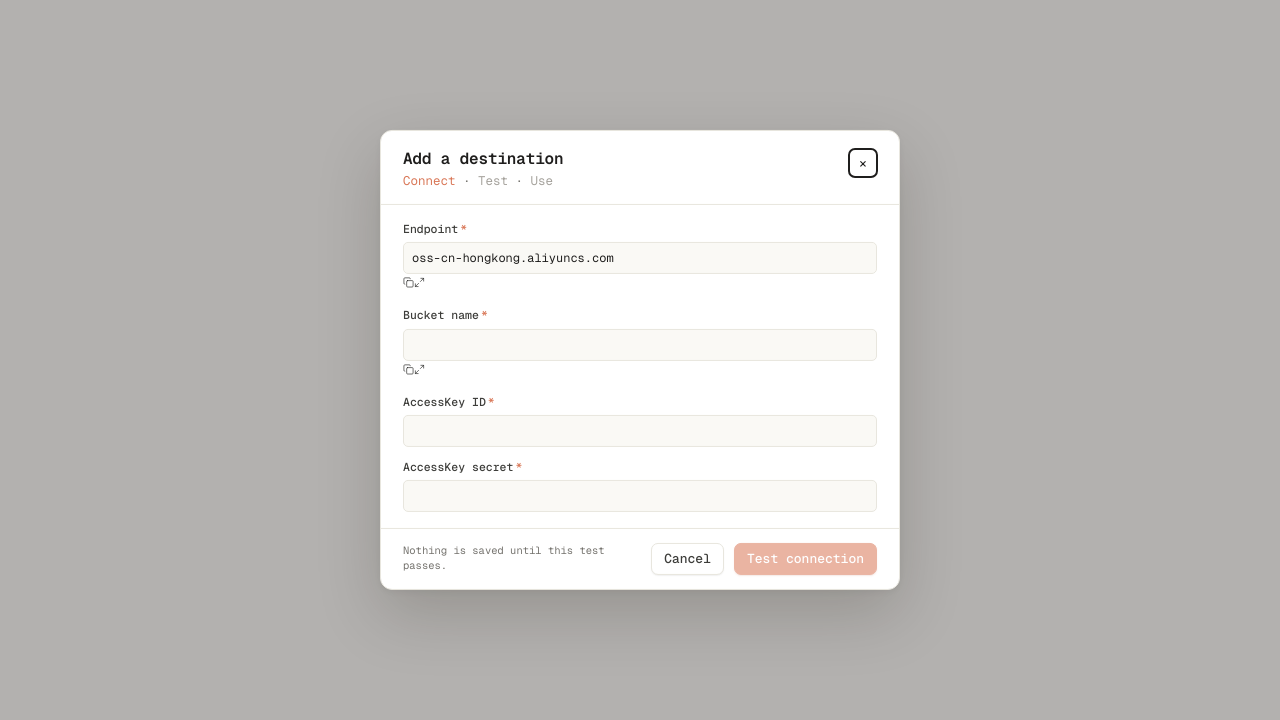
it: AddDestinationDialog › tests the real destination without recording anything
Step 1. Clear the field labelled "oss-cn-hongkong.aliyuncs.com" → [640, 258], box [403,242,877,274]
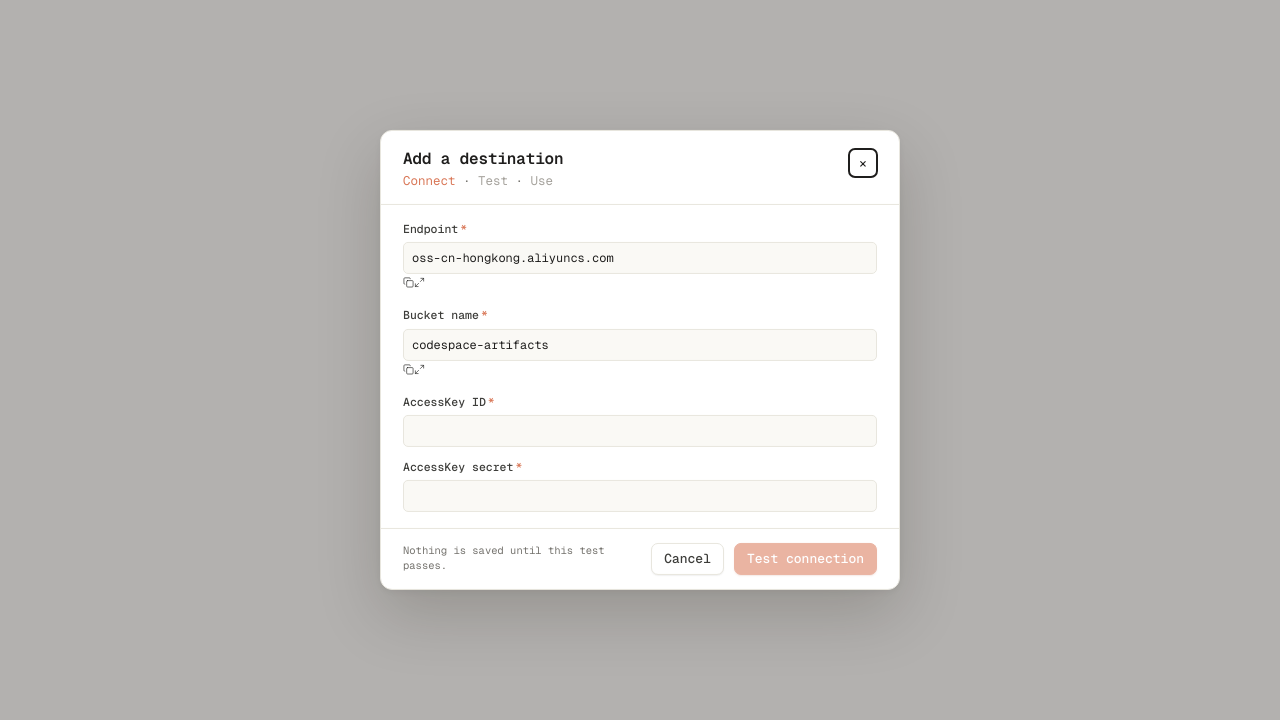
Step 2. Type "LTAI5tExample" into the password field named "AccessKey ID" → [640, 431], box [403,415,877,447]
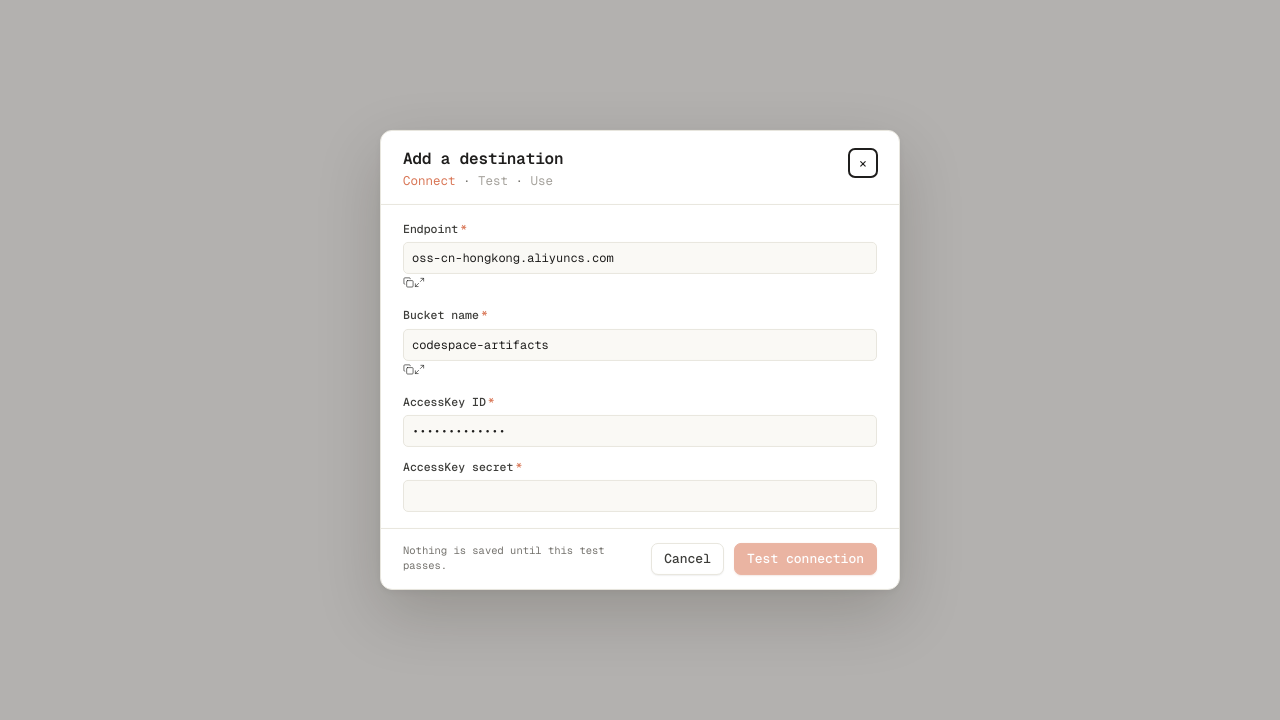
Step 3. Type "secret-value" into the password field named "AccessKey secret" → [640, 496], box [403,480,877,512]
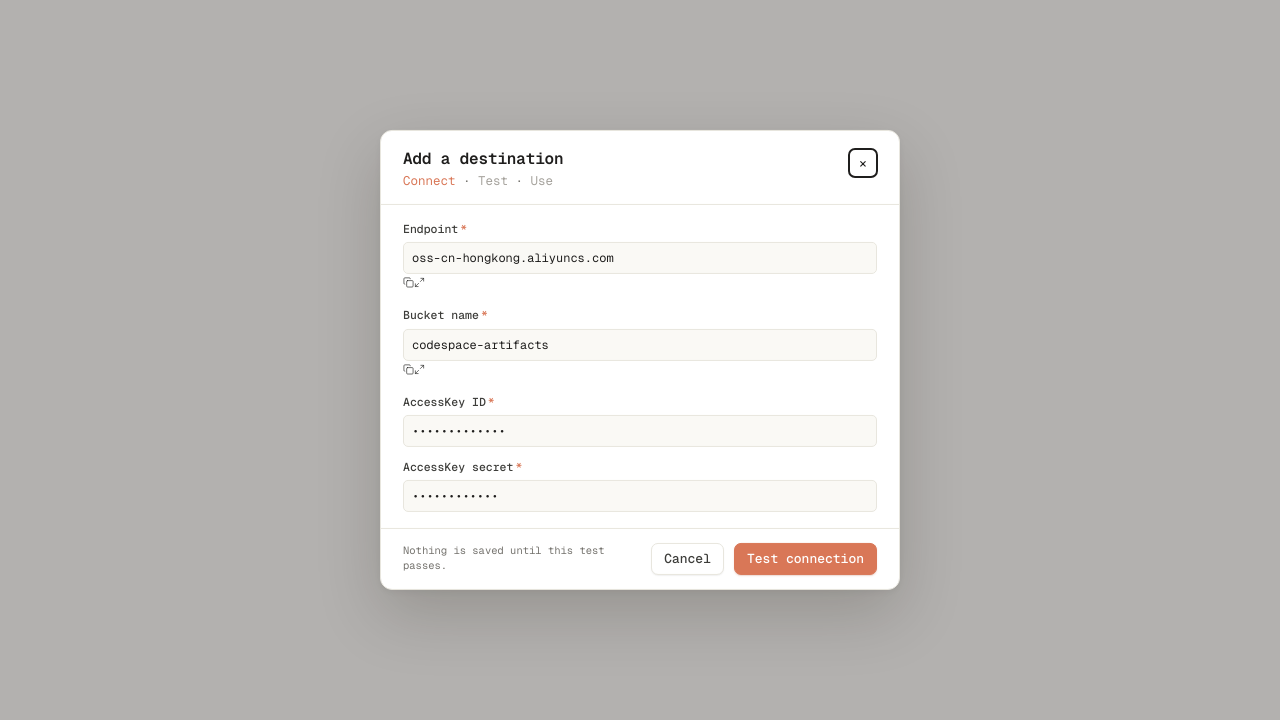
Step 4. Click the button "Test connection" → [806, 559], box [734,543,877,575]
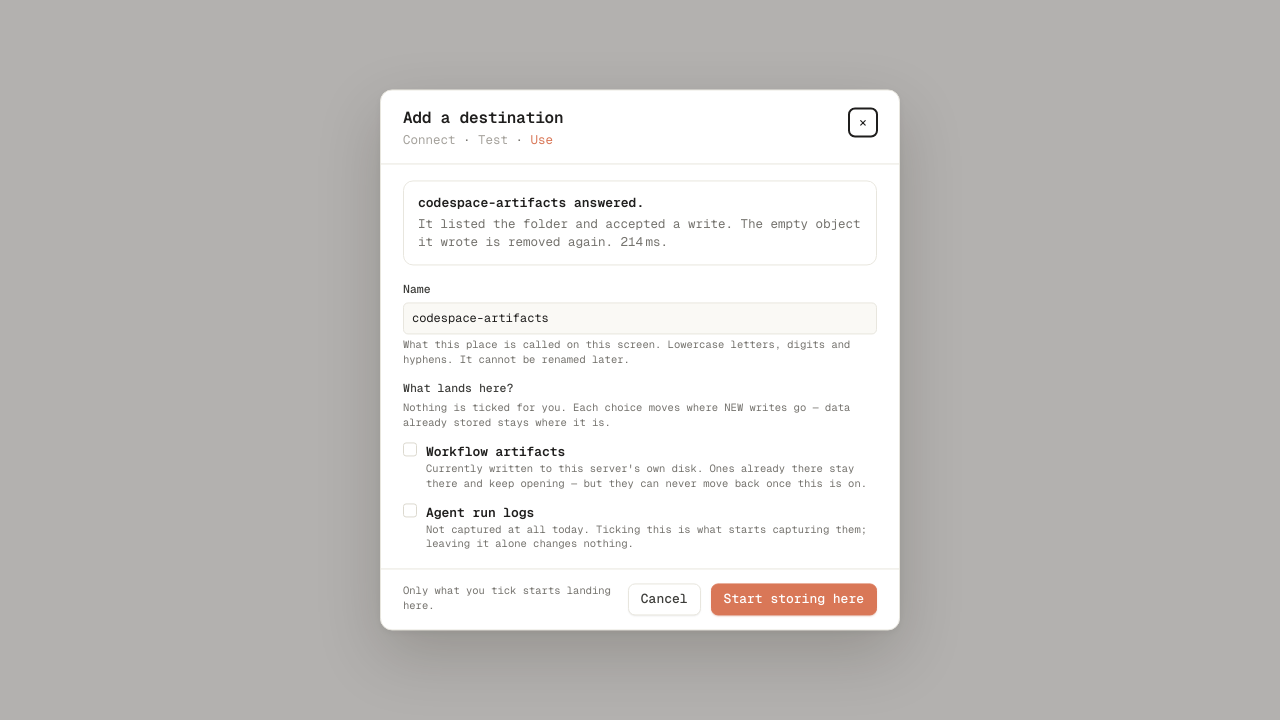
expect the button "Start storing here" is shown: met, box [711,584,877,616]
